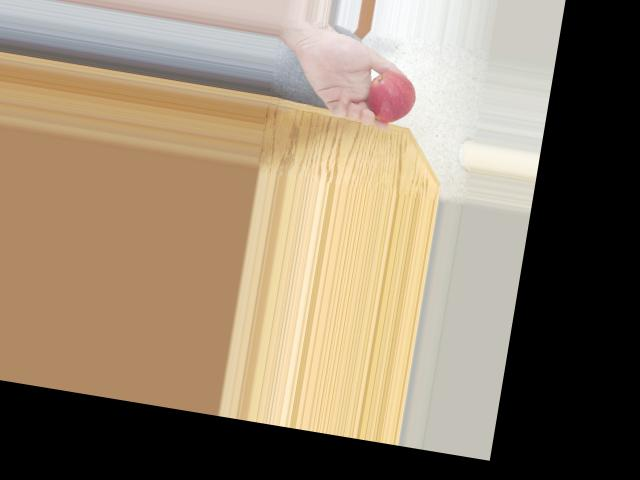apple: (363, 67, 421, 125)
